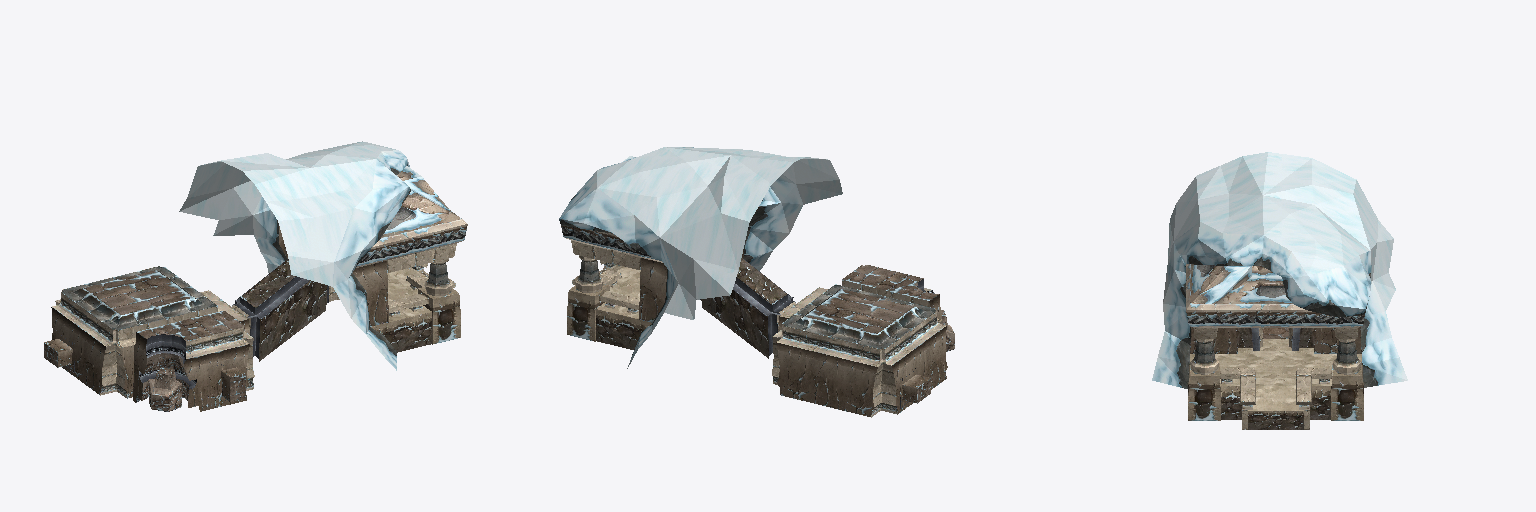
The picture shows the model from 3 angles: view 1: azimuth 30°, elevation 25°; view 2: azimuth 150°, elevation 25°; view 3: azimuth 270°, elevation 25°; orthographic projection.
Visible parts, largest first — view 1: snow_hovel_set2; view 2: snow_hovel_set2; view 3: snow_hovel_set2.
Part boxes in pixels (x1,y1,x2,y2): snow_hovel_set2: (44, 141, 467, 411); snow_hovel_set2: (559, 147, 954, 417); snow_hovel_set2: (1152, 152, 1407, 429).
Bounding box in the file's own units: 32.73 × 16.31 × 20.08.
Materials: 12 (12 with a texture image).